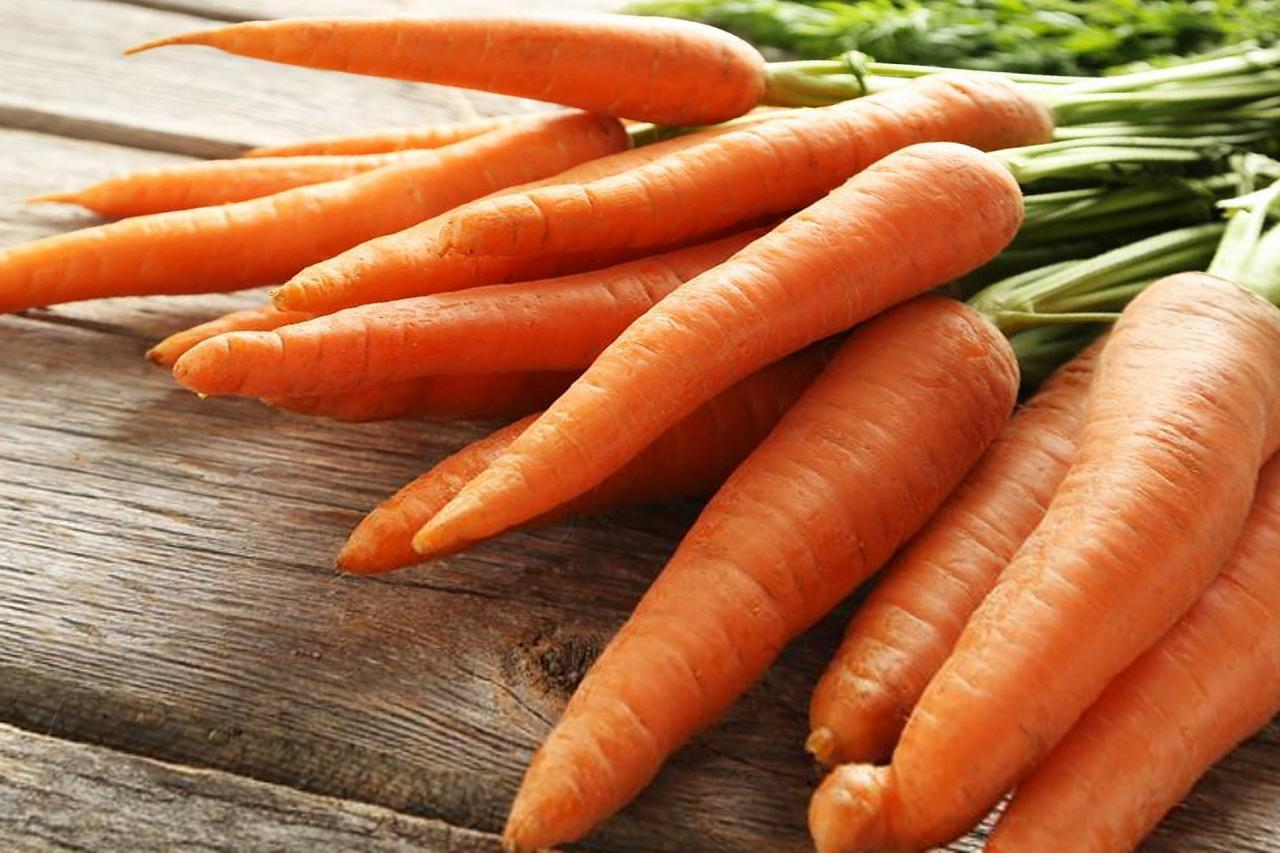carrot: (110, 3, 1280, 853), (167, 18, 1280, 804), (400, 108, 1044, 779), (877, 214, 1280, 853)
